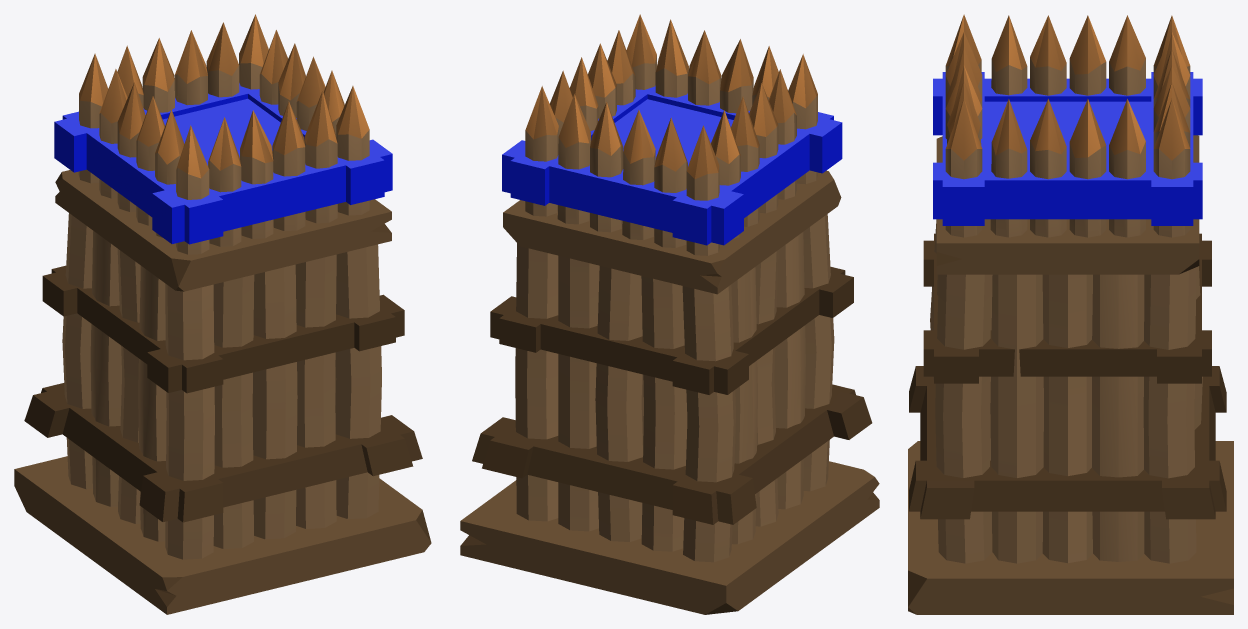
Rendered from Tower2 1.fbx.
3 views of the same model, side by side, from view 1: azimuth 30°, elevation 25°; view 2: azimuth 150°, elevation 25°; view 3: azimuth 270°, elevation 25° (orthographic). The views are drawn at different scales.
Visible parts, largest first — view 1: Tower2; view 2: Tower2; view 3: Tower2.
Boxes of the visible parts, <box> form: Tower2: <box>14,14,431,614</box>; Tower2: <box>460,14,879,614</box>; Tower2: <box>908,14,1233,614</box>.
Size of the model in its own units: 282 by 470 by 282.
